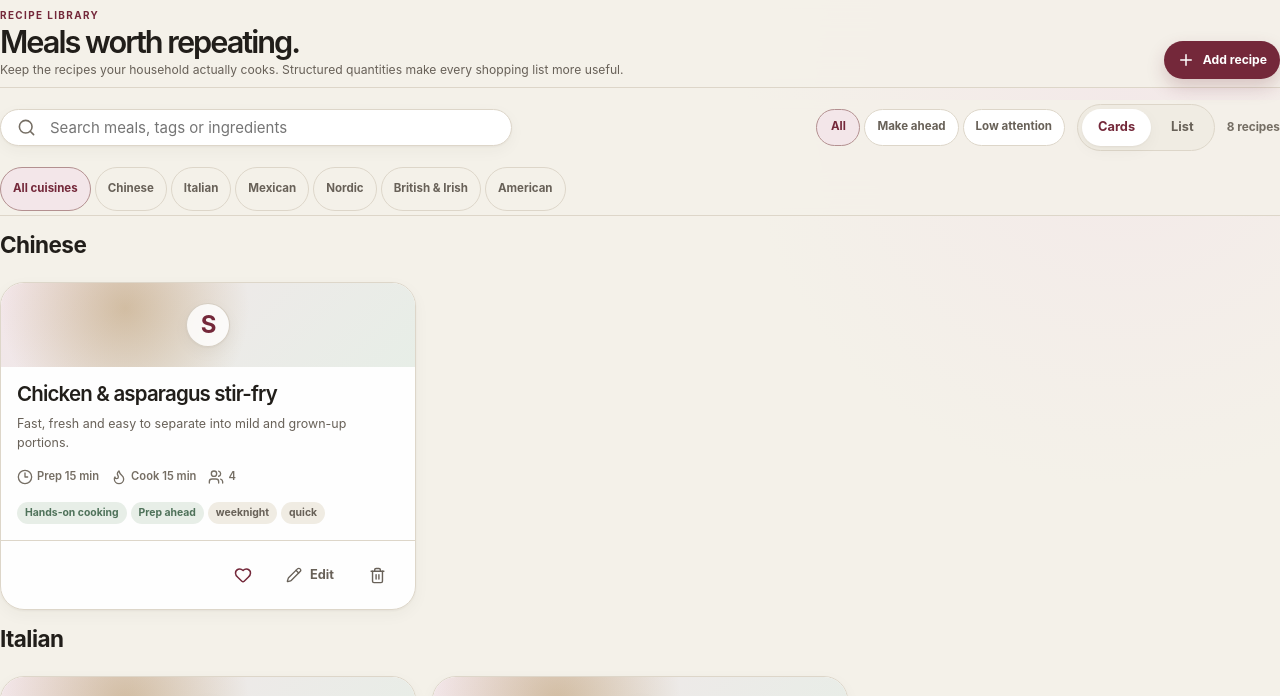
RecipesPage › switches recipes between card and list displays
This screenshot has width=1280, height=696.
Expected: the list with class "recipe-grid" that starts with "Chicken & asparagus stir-fry" is shown, [0,282,416,610]
Click the button "List" at (1182, 127), box [1155,108,1210,146]
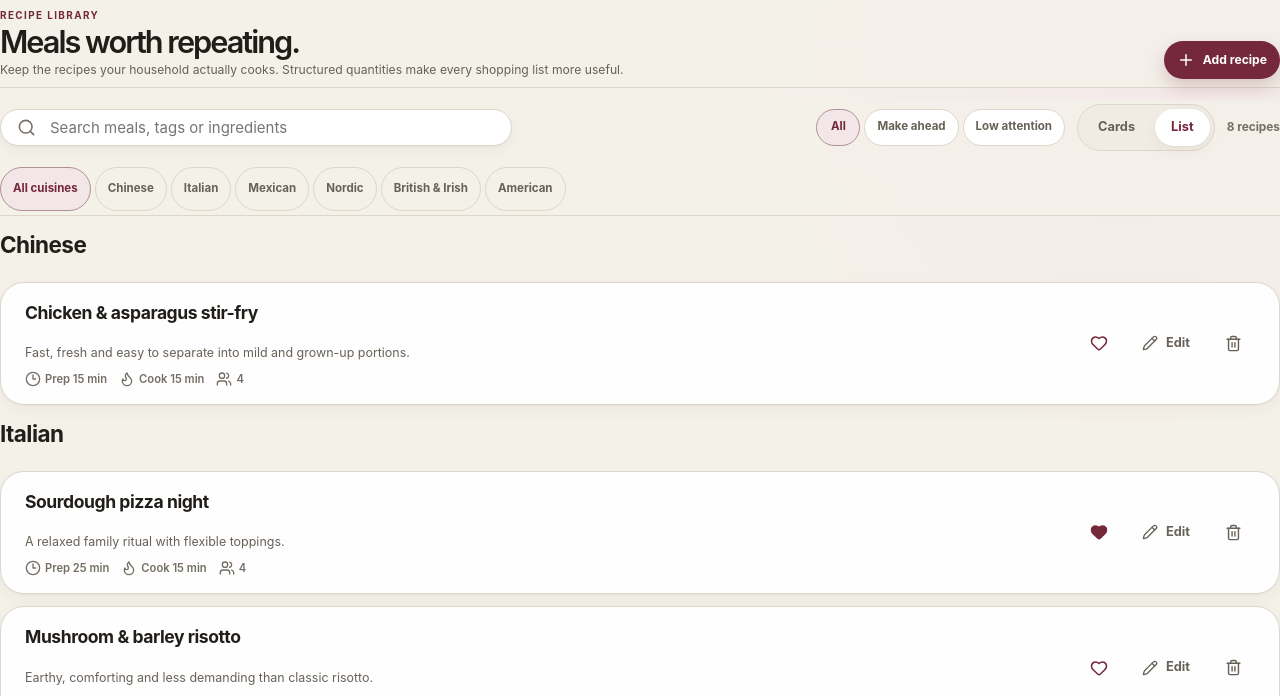
Expected: the list item with class "recipe-list__item" that starts with "Chicken & asparagus stir-fry" is shown, [0,282,1279,405]
Click the button "Cards" at (1116, 127), box [1082,108,1151,146]
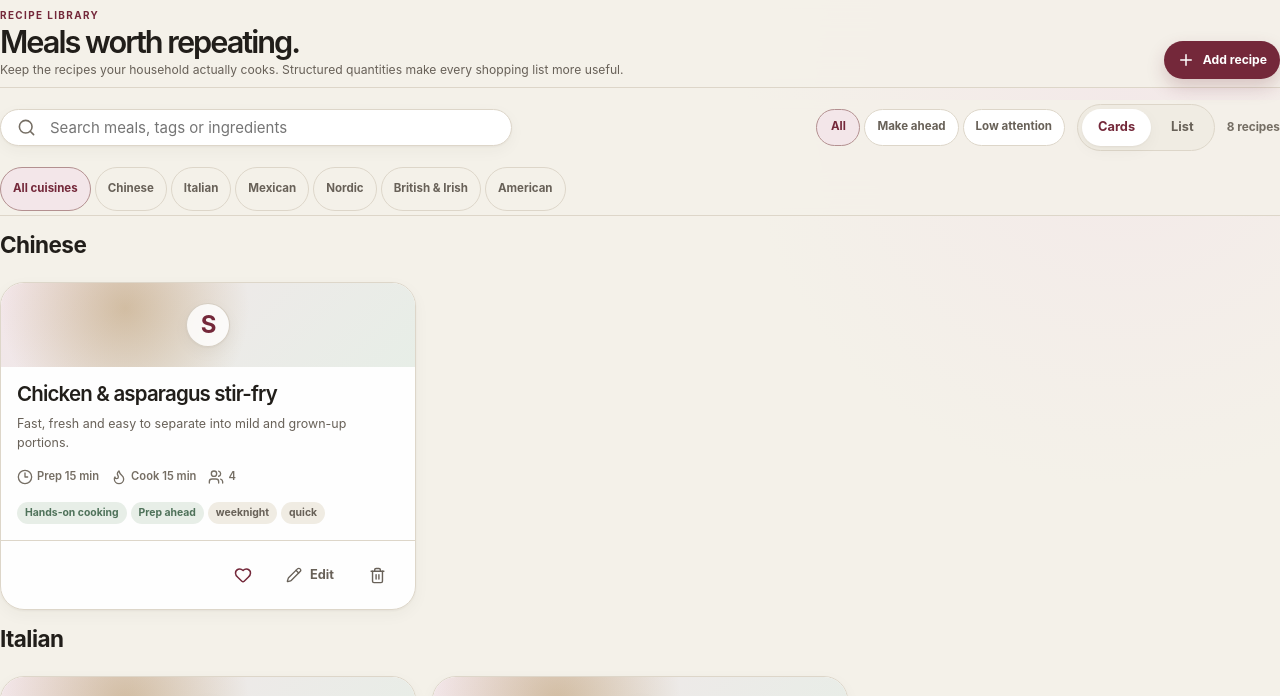
Expected: the list with class "recipe-grid" that starts with "Chicken & asparagus stir-fry" is shown, [0,282,416,610]
